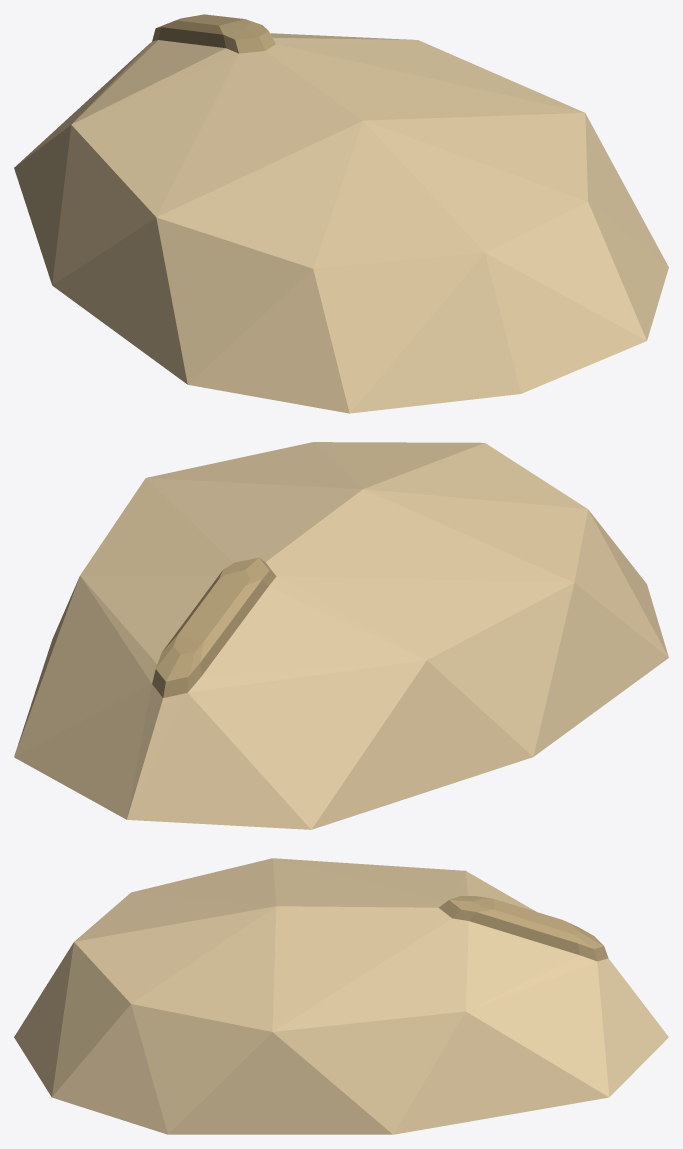
The model's file is Mouse.fbx.
3 renders of one model, top to bottom at view 1: azimuth 30°, elevation 25°; view 2: azimuth 150°, elevation 25°; view 3: azimuth 270°, elevation 25°, orthographic. The views are drawn at different scales.
Visible parts, largest first — view 1: Mouse; view 2: Mouse; view 3: Mouse.
Part boxes in pixels (bbox=[...]): Mouse: bbox=[14, 14, 668, 413]; Mouse: bbox=[14, 442, 668, 829]; Mouse: bbox=[14, 858, 668, 1134].
Bounding box in the file's own units: 37.76 × 12.4 × 53.6.
